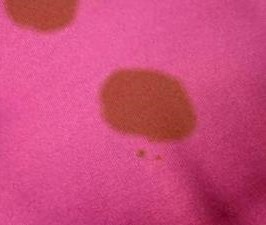stain: (93, 66, 202, 144), (3, 0, 83, 37), (152, 150, 165, 167), (134, 147, 147, 160)
